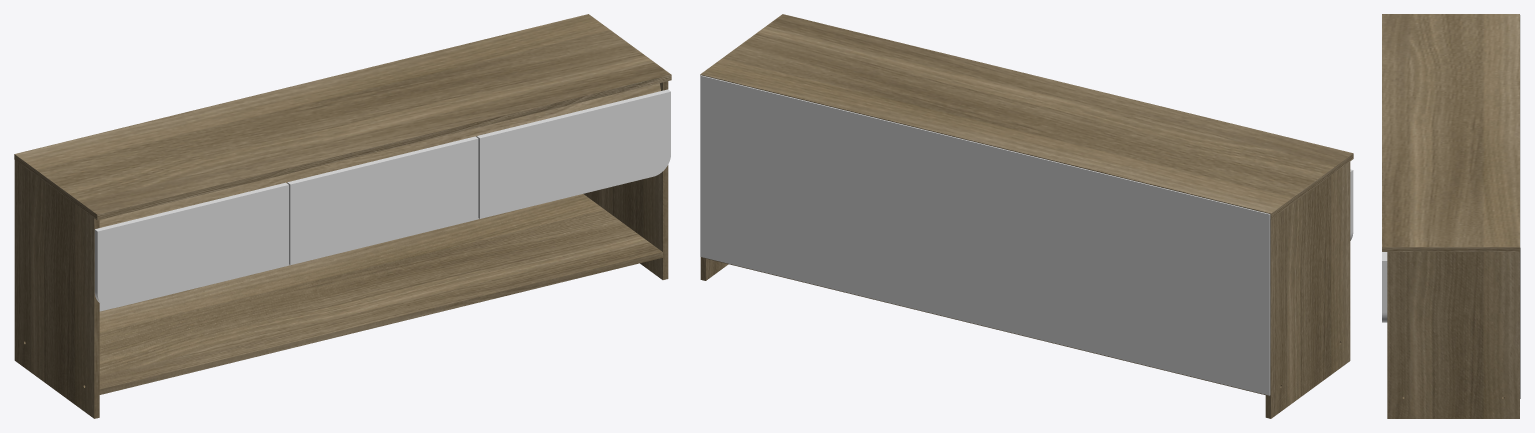
3 views of the same model, side by side, from view 1: azimuth 30°, elevation 25°; view 2: azimuth 150°, elevation 25°; view 3: azimuth 270°, elevation 25° (orthographic). The views are drawn at different scales.
Visible parts, largest first — view 1: A446270-TAPASXXXTA, A446270-PISOSXXXPI, Simetruc801446270-COSTADOSCO, A446270-FRENTECAIZ, A446270-FRENTECADE, A446270-FRENTECACE, A446270-FAJASXXXFR, A446270-COSTADOSCO; view 2: A446270-FONDOSXXMU, A446270-TAPASXXXTA, Simetruc801446270-COSTADOSCO, A446270-PISOSXXXPI; view 3: A446270-TAPASXXXTA, A446270-COSTADOSCO, A446270-FRENTECADE, A446270-FONDOSXXMU.
Boxes of the visible parts, <box> form: A446270-TAPASXXXTA: <box>14,14,671,220</box>; A446270-PISOSXXXPI: <box>99,194,662,394</box>; Simetruc801446270-COSTADOSCO: <box>14,160,99,418</box>; A446270-FRENTECAIZ: <box>94,182,288,308</box>; A446270-FRENTECADE: <box>476,89,670,218</box>; A446270-FRENTECACE: <box>287,136,478,265</box>; A446270-FAJASXXXFR: <box>99,83,660,227</box>; A446270-COSTADOSCO: <box>583,81,668,279</box>; A446270-FONDOSXXMU: <box>700,75,1270,395</box>; A446270-TAPASXXXTA: <box>700,14,1353,218</box>; Simetruc801446270-COSTADOSCO: <box>1265,161,1350,418</box>; A446270-PISOSXXXPI: <box>706,258,1265,394</box>; A446270-TAPASXXXTA: <box>1382,14,1519,251</box>; A446270-COSTADOSCO: <box>1387,252,1519,418</box>; A446270-FRENTECADE: <box>1382,252,1387,322</box>; A446270-FONDOSXXMU: <box>1520,15,1520,398</box>.
Size of the model in its own units: 1.6 by 0.55 by 0.403.
1 material, 1 textured.
